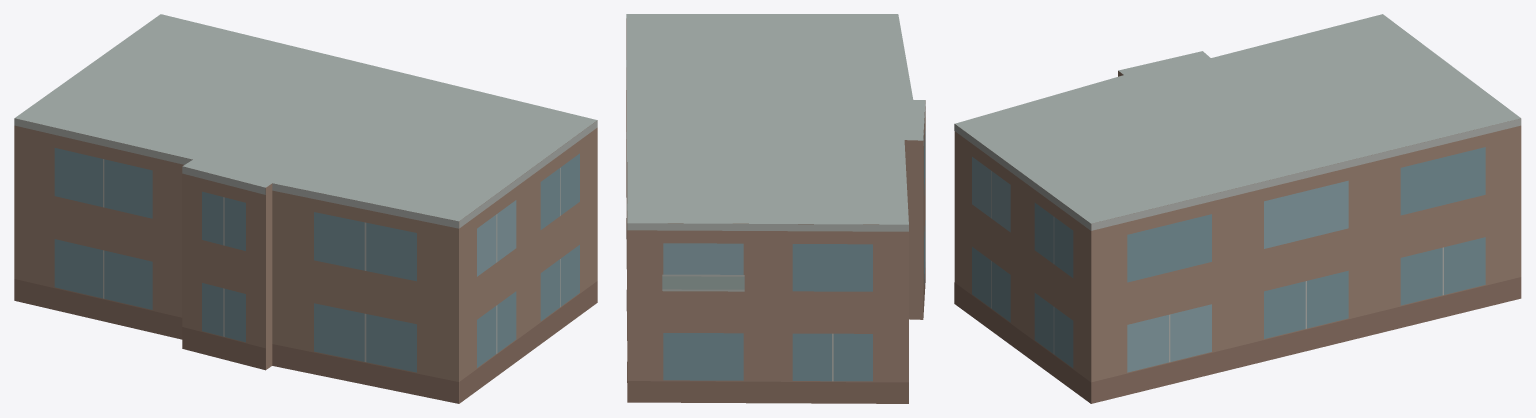
Rendered from survey-upis-32630918.glb.
The picture shows the model from 3 angles, left to right: view 1: azimuth 30°, elevation 25°; view 2: azimuth 150°, elevation 25°; view 3: azimuth 270°, elevation 25°; orthographic projection.
Visible parts, largest first — view 1: survey-upis-32630918.tmp; view 2: survey-upis-32630918.tmp; view 3: survey-upis-32630918.tmp.
Boxes of the visible parts, x1,y1,x2,y2 form: survey-upis-32630918.tmp: (14,14,597,403); survey-upis-32630918.tmp: (626,14,925,403); survey-upis-32630918.tmp: (954,14,1521,403).
Bounding box in the file's own units: 15.24 × 6.1 × 17.4.
